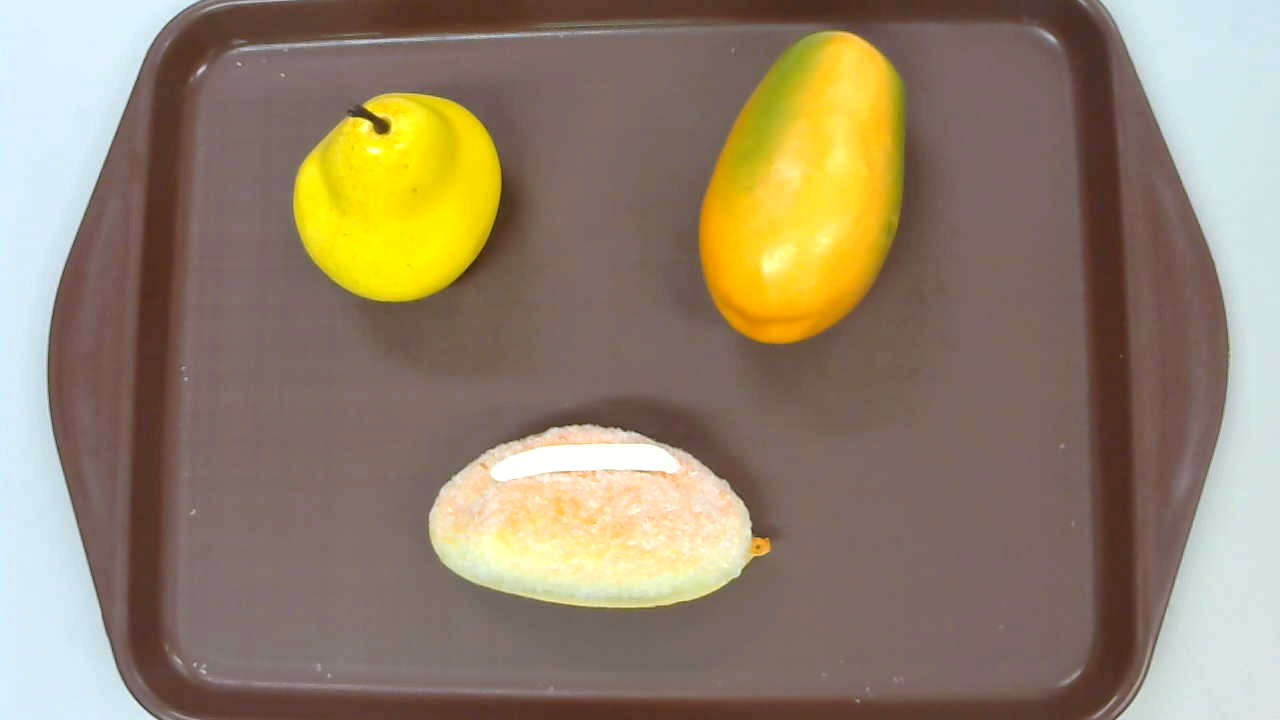coconut: (428, 425, 770, 610)
papya: (698, 29, 908, 346)
yellow pear: (294, 91, 503, 303)
